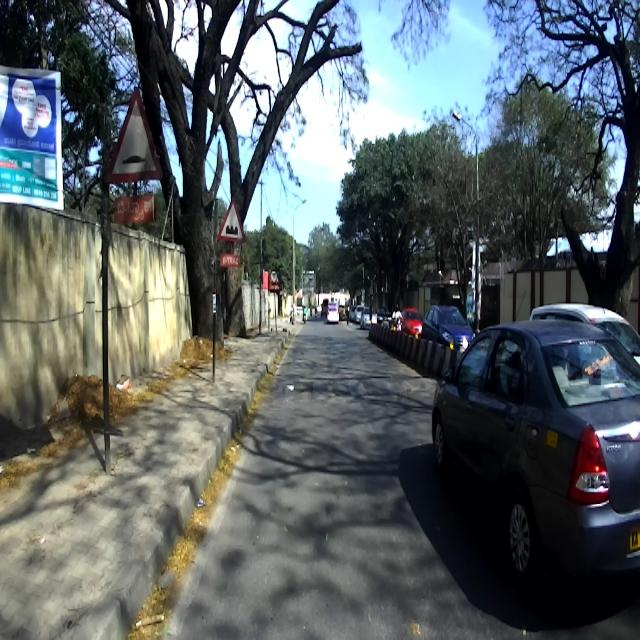Car_Maruti-Suzuki: (421, 304, 475, 353)
Car_Toyota: (431, 319, 639, 588)
